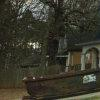Boat: (17, 54, 98, 98)
